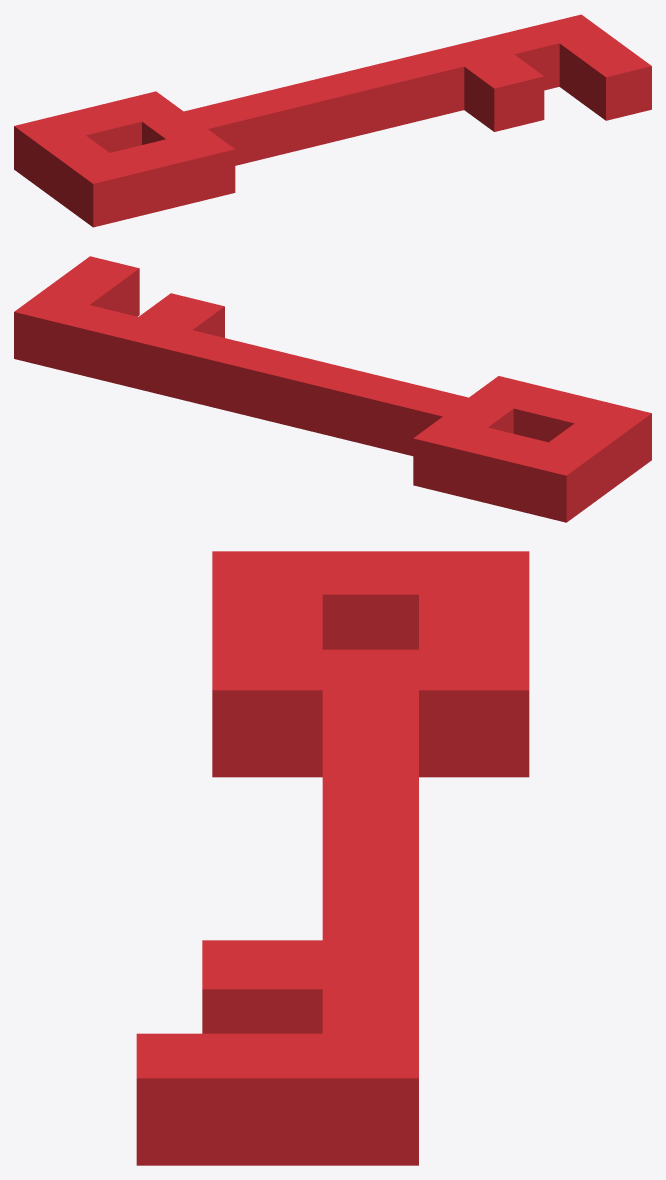
The model's file is key.fbx.
3 views of the same model, one above another, from view 1: azimuth 30°, elevation 25°; view 2: azimuth 150°, elevation 25°; view 3: azimuth 270°, elevation 25° (orthographic). The views are drawn at different scales.
Parts seen in each view (by area): view 1: Model; view 2: Model; view 3: Model.
Part boxes in pixels (bbox=[...]): Model: bbox=[14, 14, 651, 227]; Model: bbox=[14, 256, 651, 522]; Model: bbox=[136, 551, 529, 1165].
Size of the model in its own units: 0.1064 by 0.338 by 0.0261.
